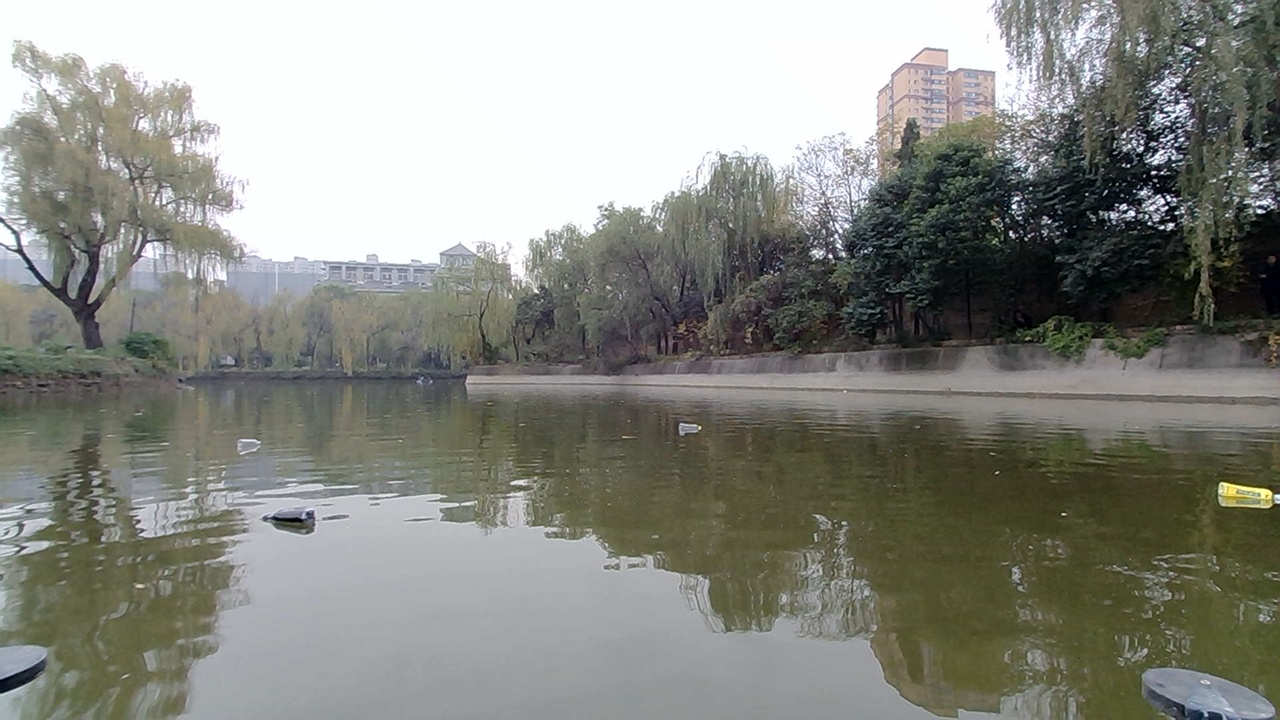bottle: (254, 491, 345, 539), (238, 423, 317, 466), (1211, 477, 1279, 518), (665, 403, 715, 438)
